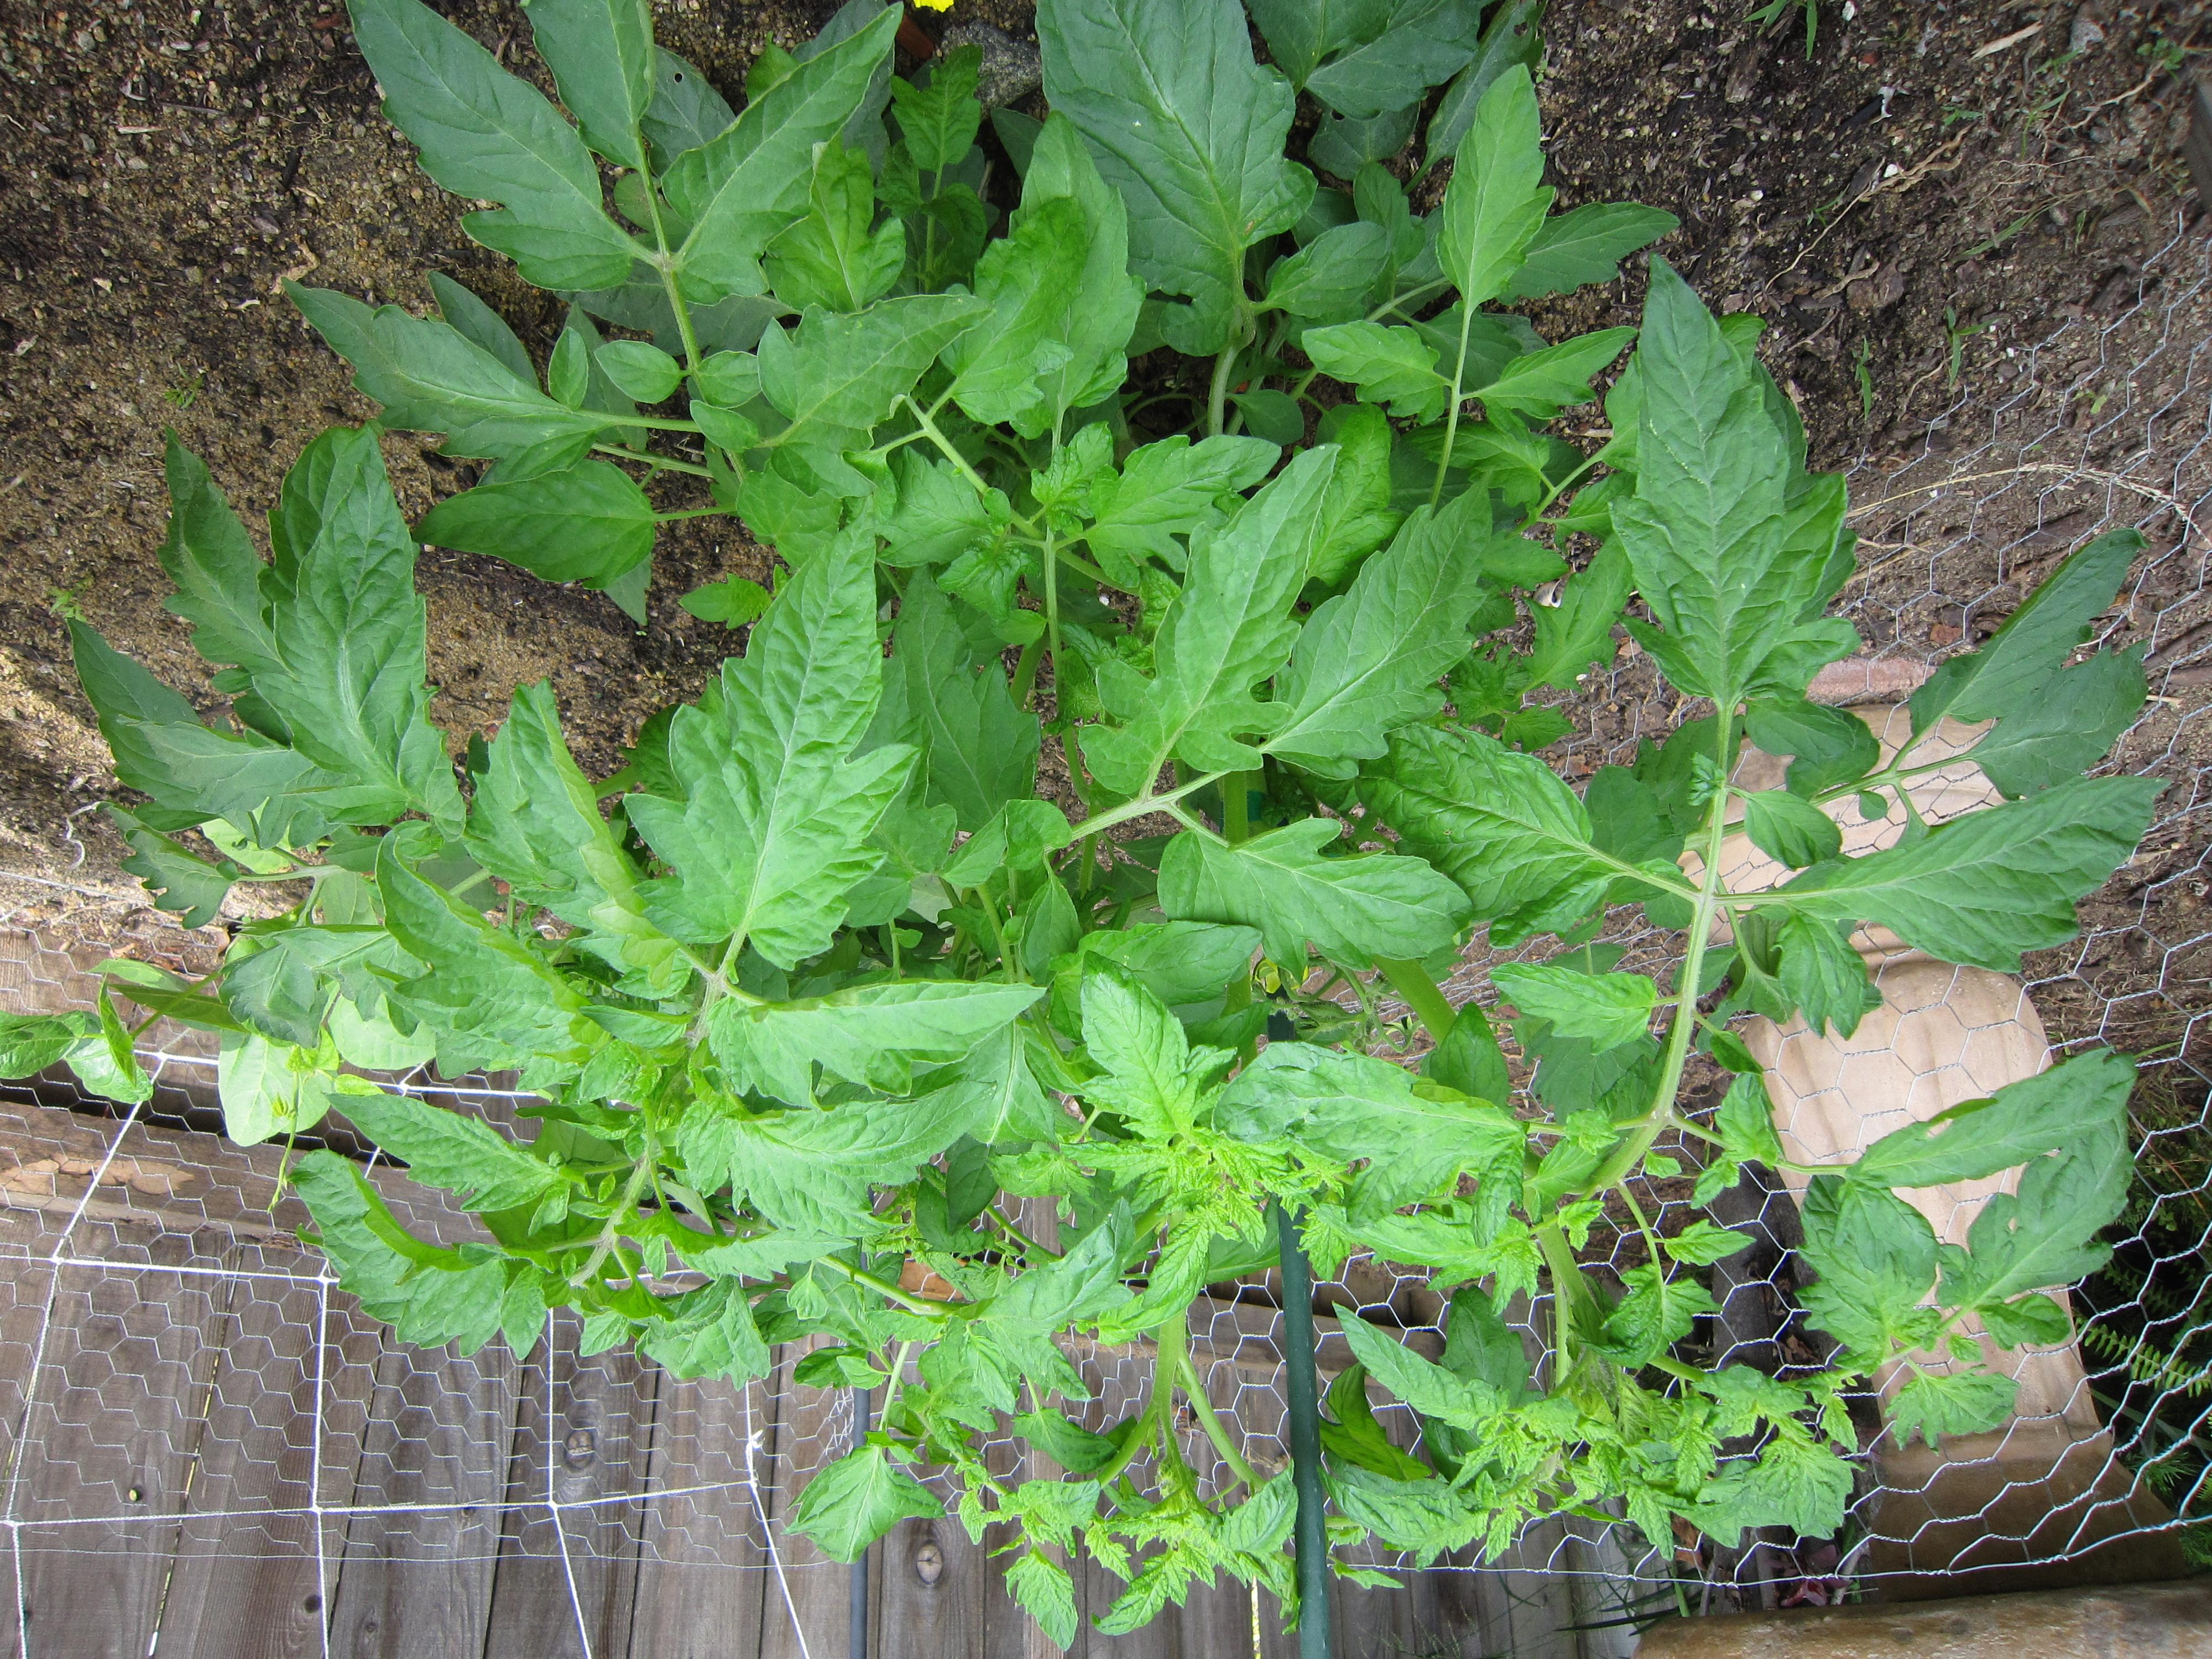Tomato leaf: (1595, 208, 1830, 698), (1751, 743, 2130, 1009), (661, 545, 909, 948), (274, 406, 463, 888), (1051, 11, 1319, 322), (648, 0, 922, 300), (1182, 1043, 1609, 1228), (371, 0, 622, 311), (1266, 477, 1506, 801), (281, 1125, 564, 1380), (1851, 988, 2138, 1214), (872, 543, 1056, 896), (1145, 777, 1477, 972), (629, 1051, 979, 1233), (1898, 519, 2149, 764), (479, 701, 682, 1001), (716, 920, 1035, 1104), (66, 632, 329, 853), (308, 267, 587, 474), (724, 240, 982, 464), (1169, 424, 1348, 745), (914, 175, 1103, 448), (337, 1046, 589, 1235), (374, 946, 656, 1112), (1066, 382, 1317, 561), (909, 1222, 1132, 1415), (1324, 1270, 1556, 1454), (426, 448, 677, 598), (621, 1170, 887, 1310), (1072, 946, 1222, 1156), (737, 975, 1061, 1051), (782, 1415, 937, 1562), (1467, 953, 1680, 1053)
